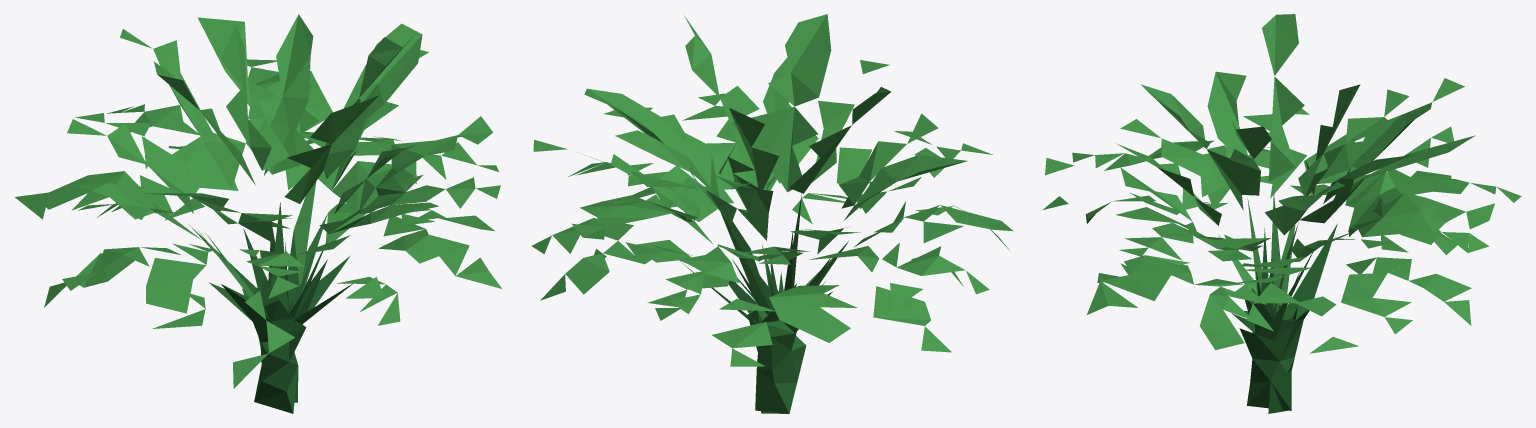
The model's file is fern-2.glb.
3 renders of one model, left to right at view 1: azimuth 30°, elevation 25°; view 2: azimuth 150°, elevation 25°; view 3: azimuth 270°, elevation 25°, orthographic. The views are drawn at different scales.
Parts seen in each view (by area): view 1: output_unwrapped; view 2: output_unwrapped; view 3: output_unwrapped.
Part boxes in pixels (bbox=[...]): output_unwrapped: bbox=[15, 14, 501, 413]; output_unwrapped: bbox=[531, 14, 1013, 413]; output_unwrapped: bbox=[1043, 14, 1521, 413].
Size of the model in its own units: 1.27 by 1.02 by 1.3.
